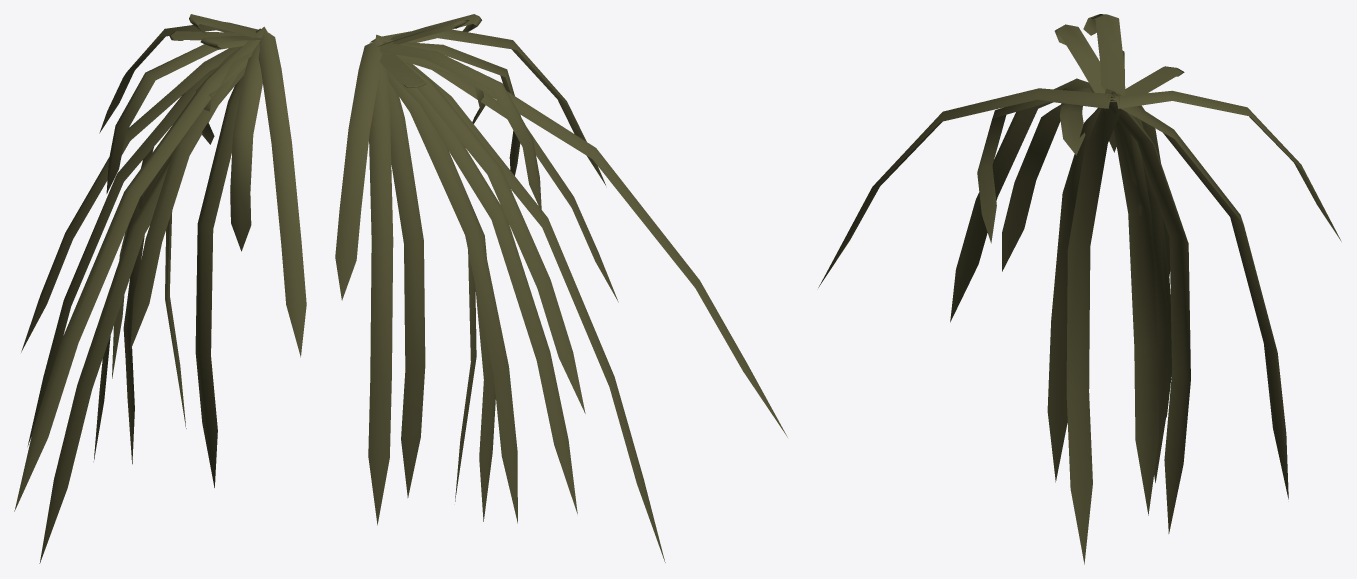
Rendered from foliage_spiky_005.fbx.
3 views of the same model, side by side, from view 1: azimuth 30°, elevation 25°; view 2: azimuth 150°, elevation 25°; view 3: azimuth 270°, elevation 25° (orthographic). The views are drawn at different scales.
Visible parts, largest first — view 1: Foliage_Spiky_05; view 2: Foliage_Spiky_05; view 3: Foliage_Spiky_05.
Boxes of the visible parts, x1,y1,x2,y2 form: Foliage_Spiky_05: (14,14,306,563); Foliage_Spiky_05: (335,14,787,562); Foliage_Spiky_05: (818,14,1341,564).
Size of the model in its own units: 128 by 182 by 153.
